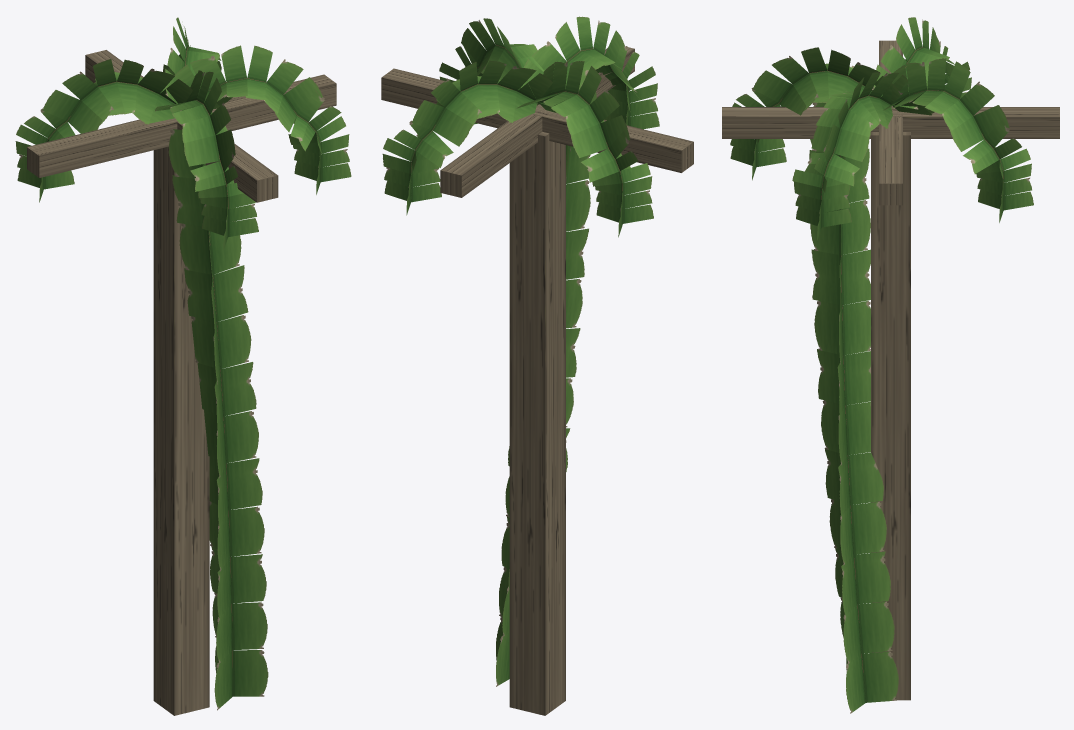
Rendered from dragonfruit_3.obj.
3 views of the same model, side by side, from view 1: azimuth 30°, elevation 25°; view 2: azimuth 150°, elevation 25°; view 3: azimuth 270°, elevation 25° (orthographic). The views are drawn at different scales.
Visible parts, largest first — view 1: dragonfruit; view 2: dragonfruit; view 3: dragonfruit.
Boxes of the visible parts, left/top/right/bottom form: dragonfruit: left=15, top=17, right=351, bottom=715; dragonfruit: left=381, top=16, right=693, bottom=715; dragonfruit: left=722, top=17, right=1059, bottom=713.
Bounding box in the file's own units: 0.84 × 1.77 × 0.84.
